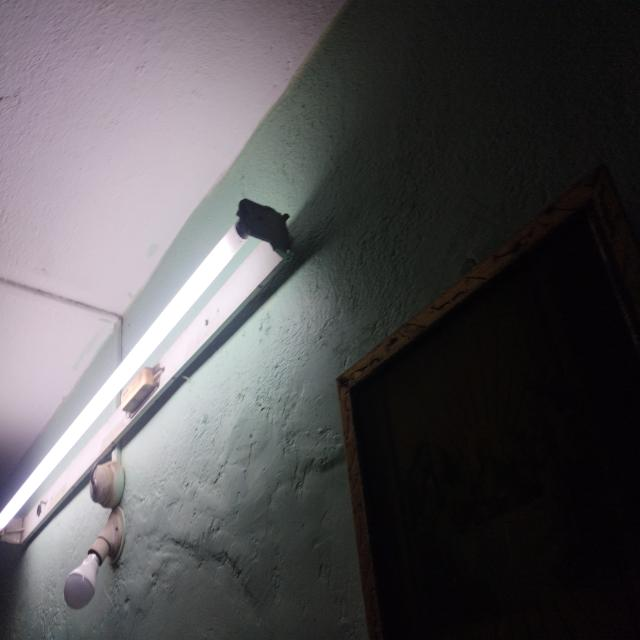tubelight_on: (0, 180, 312, 549)
